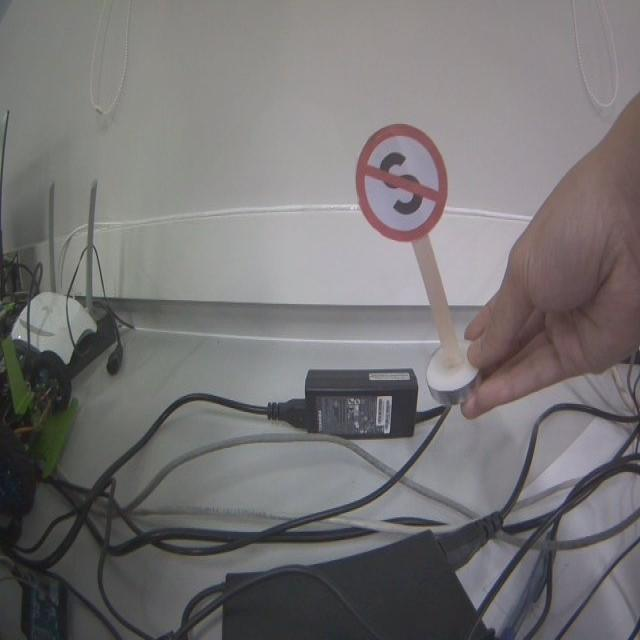Rambu Berhenti: (356, 124, 446, 240)
